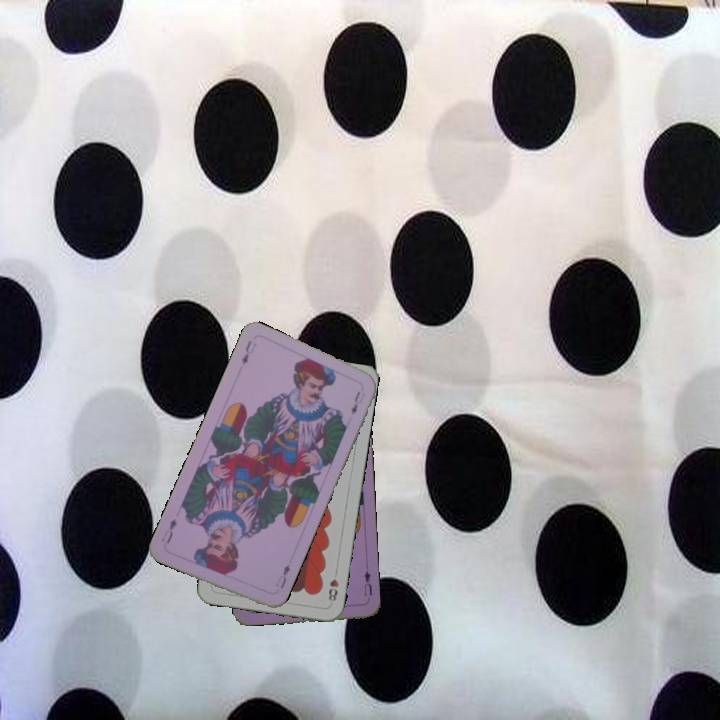EU: (271, 560, 293, 591), (238, 336, 259, 367), (360, 567, 375, 598)
H8: (324, 575, 341, 604)
